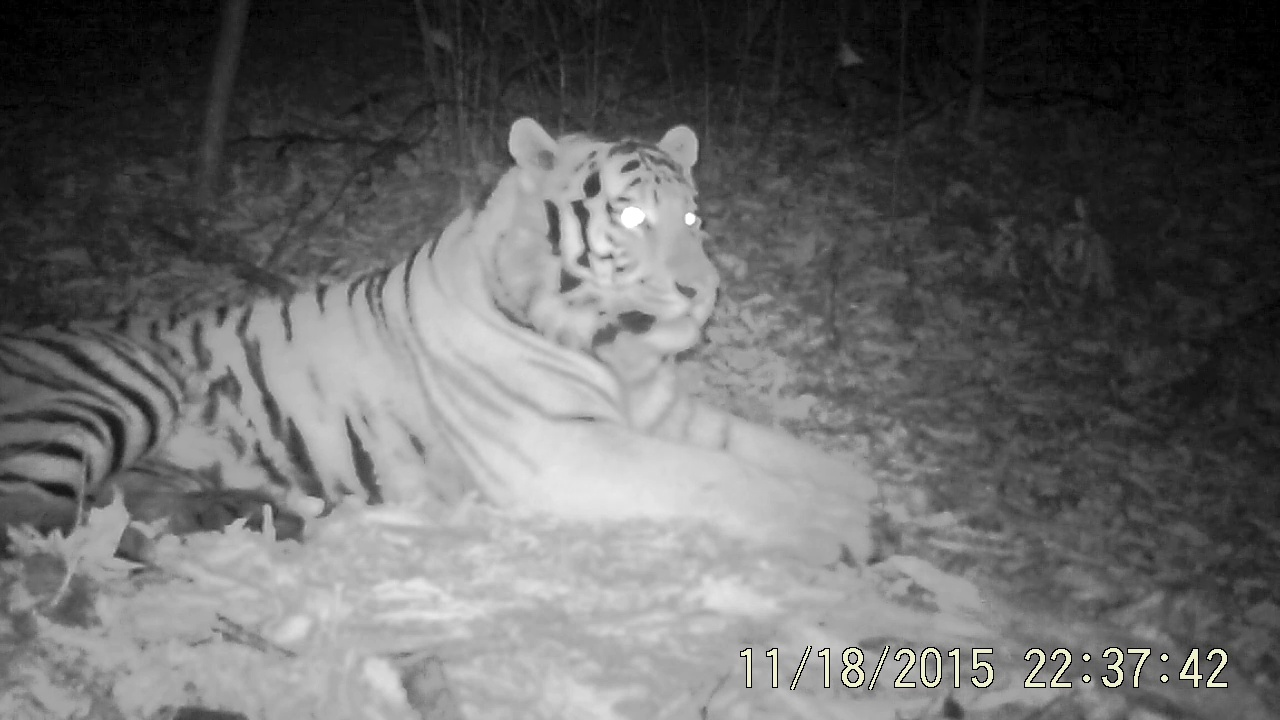Tiger: (8, 69, 935, 602)
